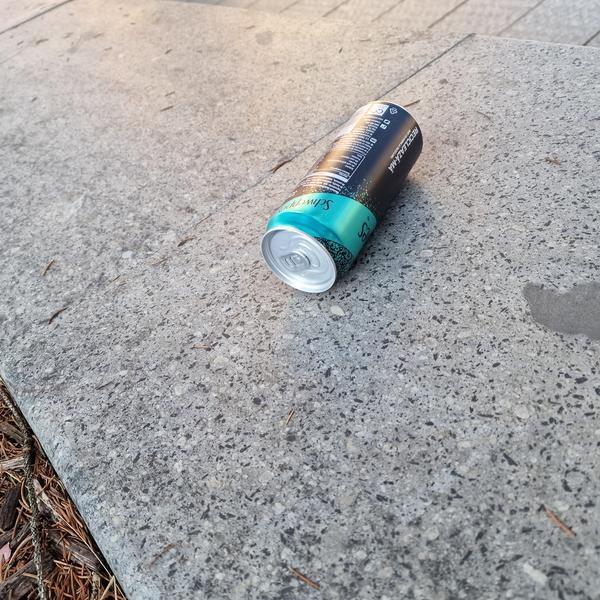can: (244, 81, 440, 307)
